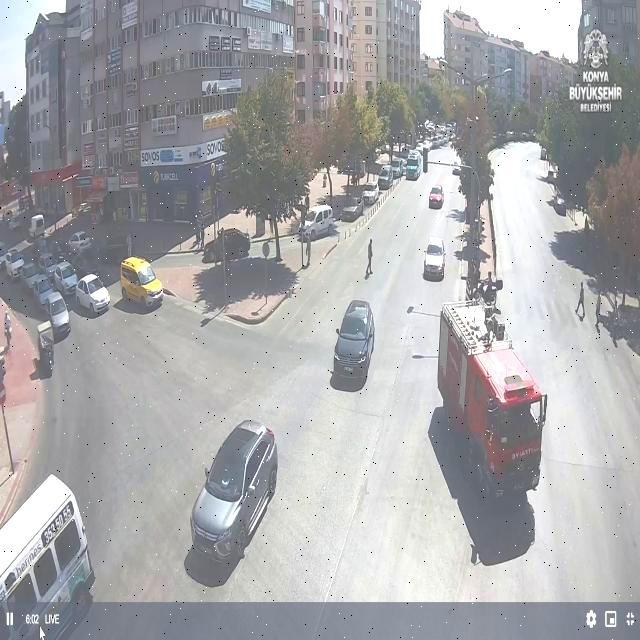Car: (189, 420, 277, 568), (332, 299, 376, 379), (202, 228, 250, 262), (75, 274, 112, 314), (41, 292, 70, 337), (298, 204, 334, 240), (52, 262, 82, 297), (423, 237, 446, 279), (18, 262, 48, 294), (30, 277, 58, 309), (67, 230, 94, 256), (1, 250, 25, 279), (340, 198, 364, 222), (361, 182, 381, 205), (28, 214, 46, 239), (378, 165, 396, 188), (390, 158, 408, 179), (429, 185, 444, 208), (553, 196, 566, 215)
Truck: (435, 299, 551, 503)
Van: (119, 256, 162, 307)
